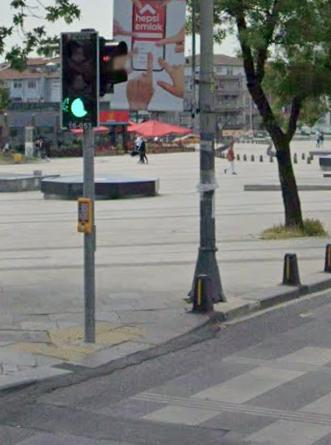greenlight: (61, 27, 96, 126)
